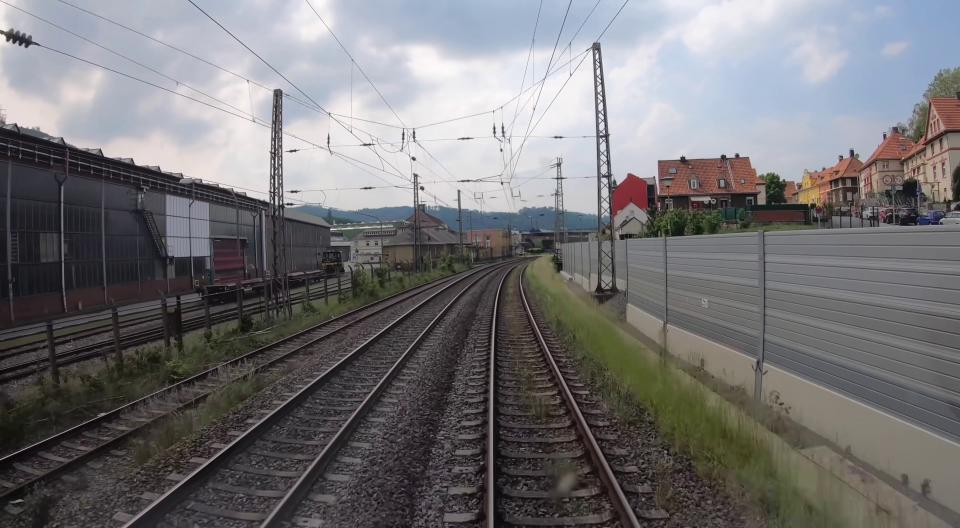Plant: (527, 257, 910, 528), (0, 263, 469, 457), (135, 372, 276, 464), (25, 485, 64, 528), (506, 265, 528, 335), (522, 387, 550, 418), (524, 375, 532, 386)
